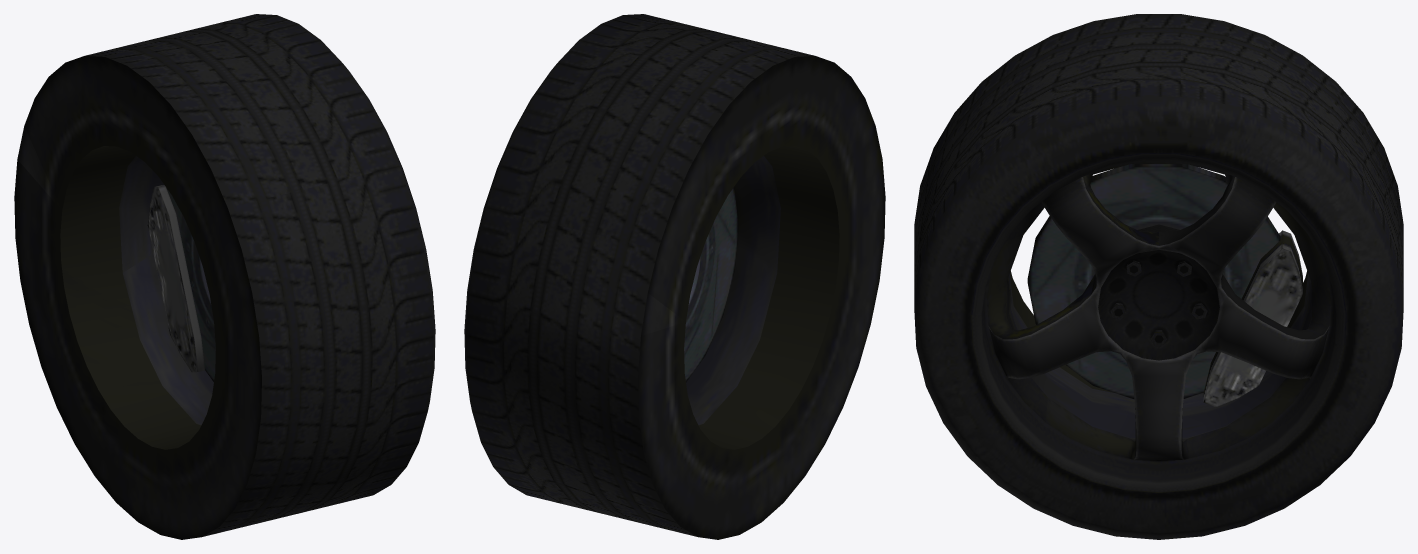
Rendered from WP23_wheelpack.glb.
The picture shows the model from 3 angles, left to right: view 1: azimuth 30°, elevation 25°; view 2: azimuth 150°, elevation 25°; view 3: azimuth 270°, elevation 25°; orthographic projection.
Parts seen in each view (by area): view 1: MOD_ND_WP23_tyre, MOD_ND_WP23_rim, MOD_ND_WP23_brakes; view 2: MOD_ND_WP23_tyre, MOD_ND_WP23_rim, MOD_ND_WP23_brakes; view 3: MOD_ND_WP23_tyre, MOD_ND_WP23_rim, MOD_ND_WP23_brakes.
Boxes of the visible parts, x1,y1,x2,y2 form: MOD_ND_WP23_tyre: [14, 14, 435, 539]; MOD_ND_WP23_rim: [60, 146, 213, 449]; MOD_ND_WP23_brakes: [147, 184, 215, 381]; MOD_ND_WP23_tyre: [464, 14, 885, 539]; MOD_ND_WP23_rim: [686, 146, 839, 449]; MOD_ND_WP23_brakes: [684, 187, 738, 382]; MOD_ND_WP23_tyre: [914, 14, 1403, 539]; MOD_ND_WP23_rim: [971, 153, 1346, 492]; MOD_ND_WP23_brakes: [1027, 164, 1302, 407].
Bounding box in the file's own units: 0.2711 × 0.6401 × 0.6407.
Materials: 2 (2 with a texture image).
